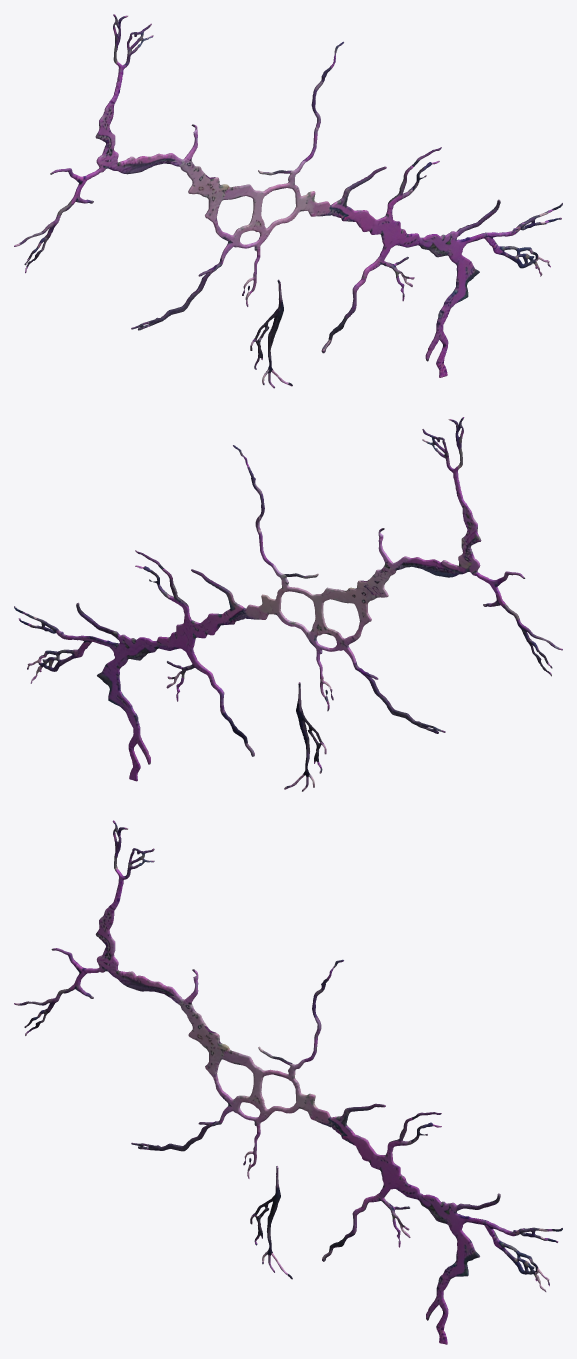
File: hex_corrupted.glb
3 views of the same model, one above another, from view 1: azimuth 30°, elevation 25°; view 2: azimuth 150°, elevation 25°; view 3: azimuth 330°, elevation 25° (orthographic).
Parts seen in each view (by area): view 1: tripo_node_8916d8dc-9937-41b1-bb4d-e2f962291a2b; view 2: tripo_node_8916d8dc-9937-41b1-bb4d-e2f962291a2b; view 3: tripo_node_8916d8dc-9937-41b1-bb4d-e2f962291a2b.
Part boxes in pixels (left/top/right/bottom): tripo_node_8916d8dc-9937-41b1-bb4d-e2f962291a2b: left=14, top=14, right=562, bottom=388; tripo_node_8916d8dc-9937-41b1-bb4d-e2f962291a2b: left=14, top=417, right=562, bottom=791; tripo_node_8916d8dc-9937-41b1-bb4d-e2f962291a2b: left=14, top=820, right=562, bottom=1344.
Bounding box in the file's own units: 1 × 0.7718 × 0.0195.
Materials: 1 (1 with a texture image).
